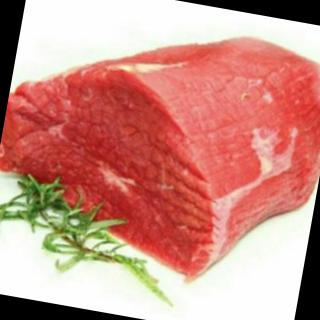Daging Sapi: (1, 1, 320, 300)
